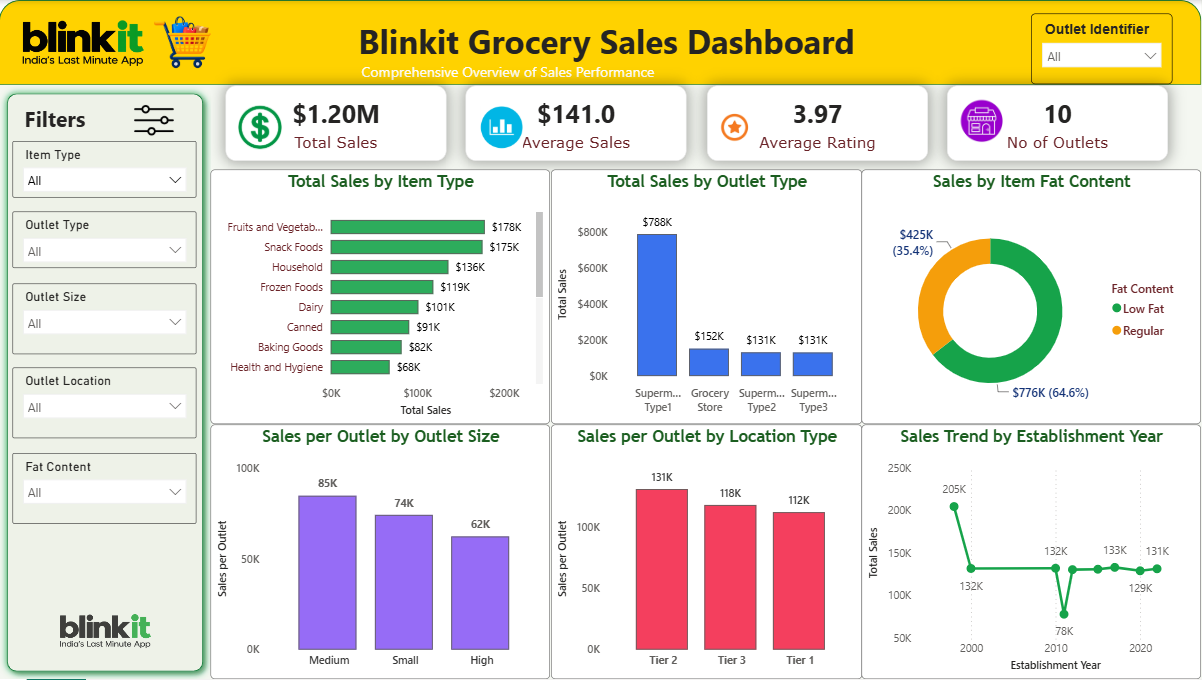

The dashboard page shown, as its layout file describes it:
{"tool":"powerbi","page":{"name":"Page 1","canvas":[1366,768],"ordinal":0},"visuals":[{"type":"shape","box":[0,0,1360,96],"z":0},{"type":"textbox","box":[352,16,672,64],"z":1000},{"type":"textbox","box":[304,64,544,32],"z":2000},{"type":"image","box":[16,16,160,64],"z":3000},{"type":"shape","box":[0,96,240,672],"z":4000},{"type":"textbox","box":[16,112,96,48],"z":5000},{"type":"card","fields":{"Values":["cleaned_data.Average Sales"]},"box":[528,96,250,85],"z":6000},{"type":"card","fields":{"Values":["cleaned_data.Average Rating"]},"box":[800,96,250,85],"z":7000},{"type":"card","fields":{"Values":["cleaned_data.Total Sales"]},"box":[256,96,250,85],"z":8000},{"type":"card","fields":{"Values":["cleaned_data.No of Outlets"]},"box":[1072,96,250,85],"z":9000},{"type":"slicer","fields":{"Values":["cleaned_data.item_type"]},"box":[16,160,208,64],"z":10000},{"type":"slicer","fields":{"Values":["cleaned_data.outlet_type"]},"box":[16,240,208,64],"z":11000},{"type":"slicer","fields":{"Values":["cleaned_data.outlet_size"]},"box":[16,320,208,80],"z":12000},{"type":"slicer","fields":{"Values":["cleaned_data.outlet_location_type"]},"box":[16,416,208,80],"z":13000},{"type":"slicer","fields":{"Values":["cleaned_data.item_fat_content"]},"box":[16,512,208,80],"z":14000},{"type":"slicer","fields":{"Values":["cleaned_data.outlet_identifier"]},"box":[1168,16,160,80],"z":15000},{"type":"clusteredBarChart","title":"Total Sales by Item Type","fields":{"Category":["cleaned_data.item_type"],"Y":["cleaned_data.Total Sales"]},"box":[240,192,384,288],"z":16000},{"type":"clusteredColumnChart","title":"Total Sales by Outlet Type","fields":{"Category":["cleaned_data.outlet_type"],"Y":["cleaned_data.Total Sales"]},"box":[624,192,352,288],"z":17000},{"type":"donutChart","title":"Sales by Item Fat Content","fields":{"Category":["cleaned_data.item_fat_content"],"Y":["cleaned_data.Total Sales"]},"box":[976,192,384,288],"z":18000},{"type":"clusteredColumnChart","title":"Sales per Outlet by Outlet Size","fields":{"Category":["cleaned_data.outlet_size"],"Y":["cleaned_data.Sales per Outlet"]},"box":[240,480,384,288],"z":19000},{"type":"clusteredColumnChart","title":"Sales per Outlet by Location Type","fields":{"Category":["cleaned_data.outlet_location_type"],"Y":["cleaned_data.Sales per Outlet"]},"box":[624,480,352,288],"z":20000},{"type":"lineChart","title":"Sales Trend by Establishment Year","fields":{"Category":["cleaned_data.outlet_establishment_year"],"Y":["Sum(cleaned_data.total_sales)"]},"box":[976,480,384,288],"z":21000},{"type":"image","box":[160,16,96,64],"z":22000},{"type":"image","box":[240,112,112,64],"z":23000},{"type":"image","box":[544,112,48,64],"z":24000},{"type":"image","box":[816,112,32,64],"z":25000},{"type":"image","box":[1088,96,48,80],"z":26000},{"type":"image","box":[128,112,96,48],"z":27000},{"type":"image","box":[64,688,112,48],"z":28000}]}

Visuals, with their boxes in screenshot pixels (x1, y1, x2, y2), scaled from the page's 1366x768 canvas onto the 1202x680 screenshot:
shape: box=[0, 0, 1197, 85]
textbox: box=[310, 14, 901, 71]
textbox: box=[268, 57, 746, 85]
image: box=[14, 14, 155, 71]
shape: box=[0, 85, 211, 679]
textbox: box=[14, 99, 99, 142]
card - cleaned_data.Average Sales: box=[465, 85, 685, 160]
card - cleaned_data.Average Rating: box=[704, 85, 924, 160]
card - cleaned_data.Total Sales: box=[225, 85, 445, 160]
card - cleaned_data.No of Outlets: box=[943, 85, 1163, 160]
slicer - cleaned_data.item_type: box=[14, 142, 197, 198]
slicer - cleaned_data.outlet_type: box=[14, 212, 197, 269]
slicer - cleaned_data.outlet_size: box=[14, 283, 197, 354]
slicer - cleaned_data.outlet_location_type: box=[14, 368, 197, 439]
slicer - cleaned_data.item_fat_content: box=[14, 453, 197, 524]
slicer - cleaned_data.outlet_identifier: box=[1028, 14, 1169, 85]
"Total Sales by Item Type" clusteredBarChart: box=[211, 170, 549, 425]
"Total Sales by Outlet Type" clusteredColumnChart: box=[549, 170, 859, 425]
"Sales by Item Fat Content" donutChart: box=[859, 170, 1197, 425]
"Sales per Outlet by Outlet Size" clusteredColumnChart: box=[211, 425, 549, 679]
"Sales per Outlet by Location Type" clusteredColumnChart: box=[549, 425, 859, 679]
"Sales Trend by Establishment Year" lineChart: box=[859, 425, 1197, 679]
image: box=[141, 14, 225, 71]
image: box=[211, 99, 310, 156]
image: box=[479, 99, 521, 156]
image: box=[718, 99, 746, 156]
image: box=[957, 85, 1000, 156]
image: box=[113, 99, 197, 142]
image: box=[56, 609, 155, 652]
